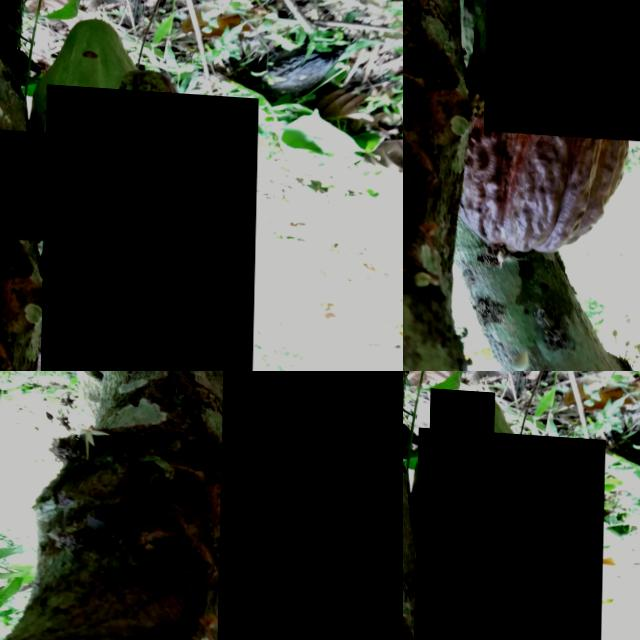Fitoftora: (412, 424, 605, 640), (485, 0, 640, 135)
Monilia: (220, 371, 403, 640), (0, 126, 50, 236)
Sana: (41, 81, 258, 371), (429, 385, 495, 504)
